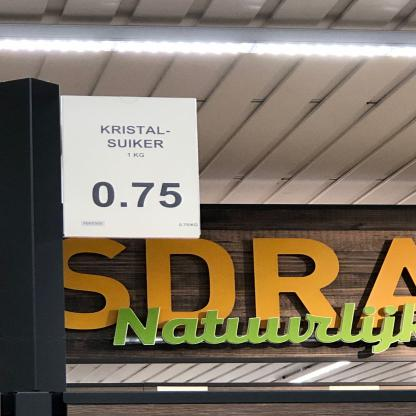prtg: (61, 95, 202, 240)
